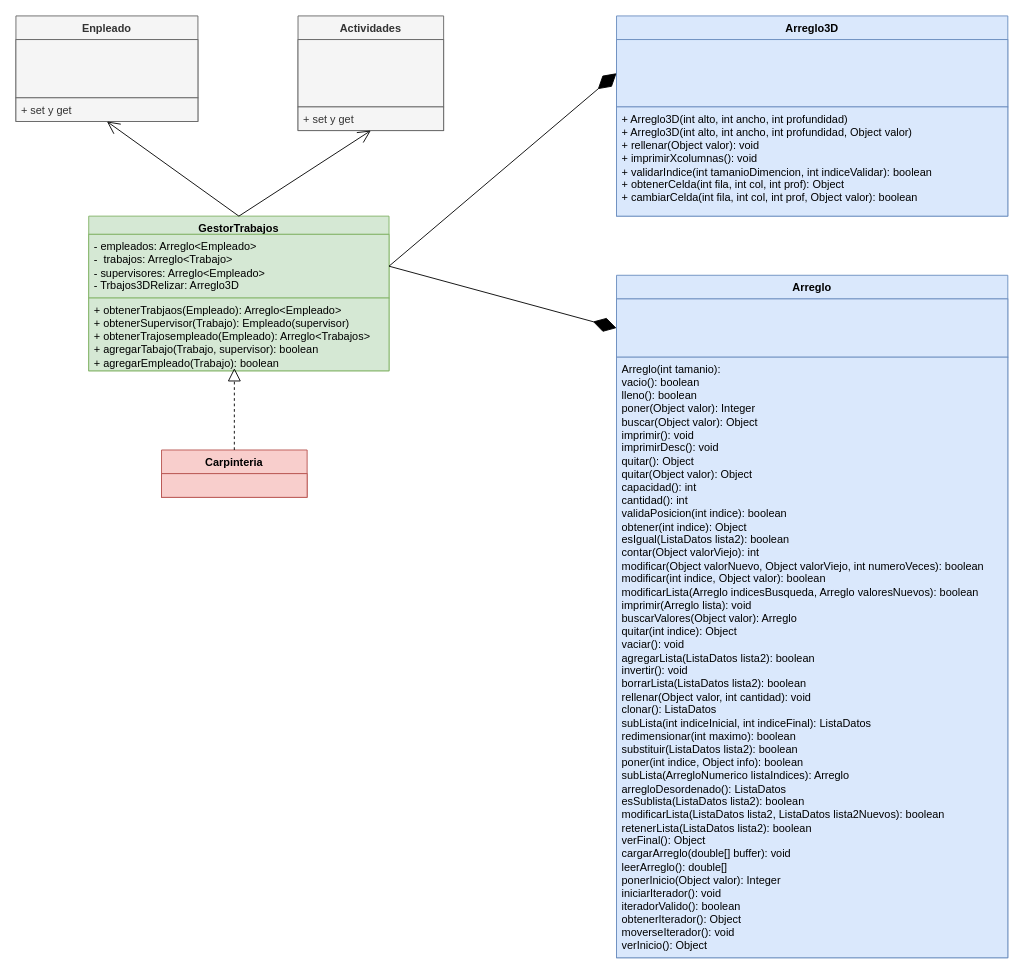
This 1024x976 diagram has some shape labels left out. The centre of each missing label's shape, as x and y in pixels:
"- datos : Object [ ] - capacidad : int - indiceSuperior : int" goes at point 812,327.
"- datos : Object [ ] [ ] [ ] - ancho: int - alto: int - profundidad: int" goes at point 812,73.
"- fecha: Date - descripcion: String - costo: int - nombre: String" goes at point 370,73.
"- nombre: String - fechaNacimiento: Date - domicilio: String - RFC : String" goes at point 106,68.
"main(args: String[]): void" goes at point 234,485.
